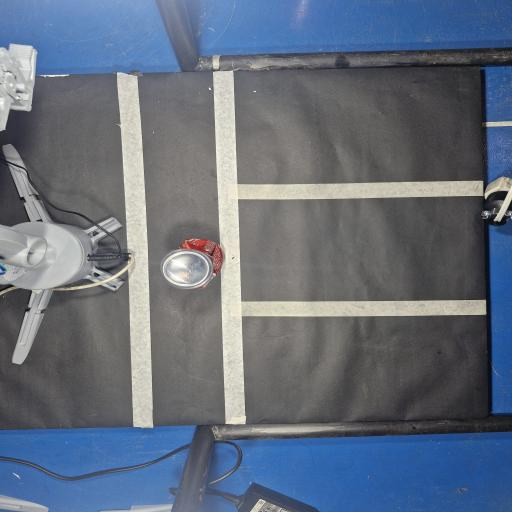lata_defectuoso: (160, 239, 224, 290)
